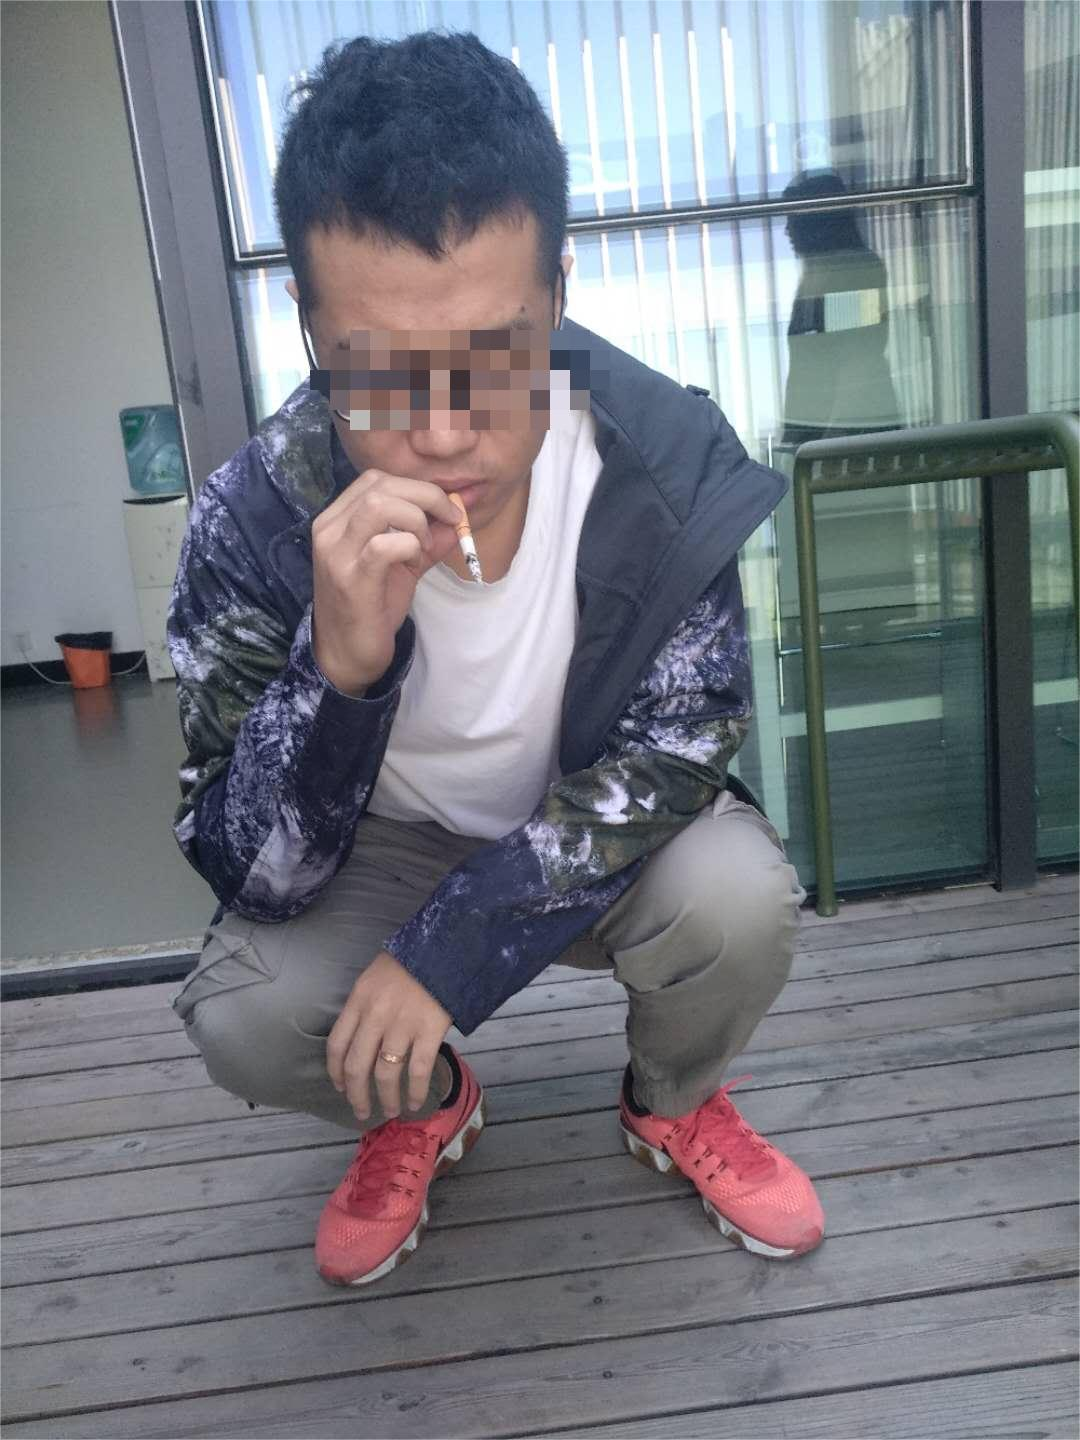smoke: (449, 494, 492, 593)
